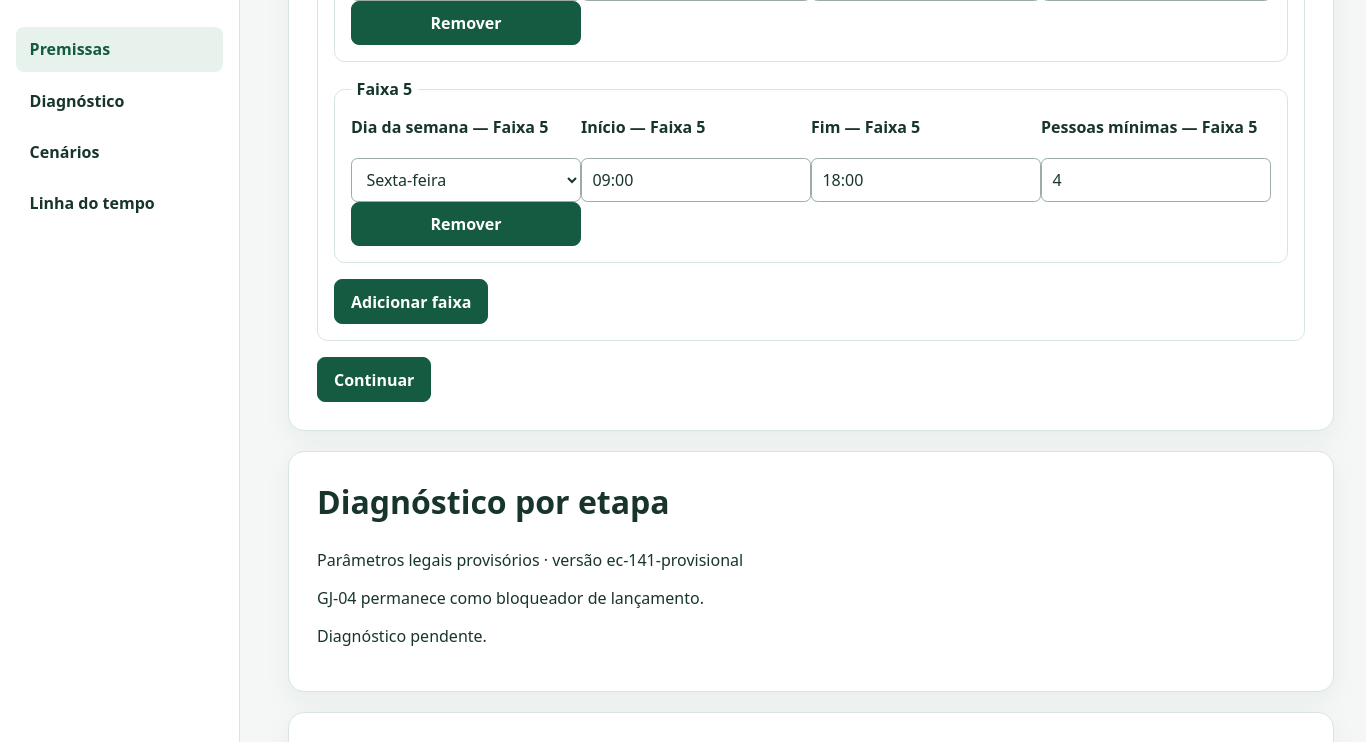
Test: diagnostic dashboard › shows all three diagnostic stages after valid form submission
This screenshot has width=1366, height=742.
(page scrolled)
Click the button "Continuar" at (374, 380), box [317, 357, 431, 402]
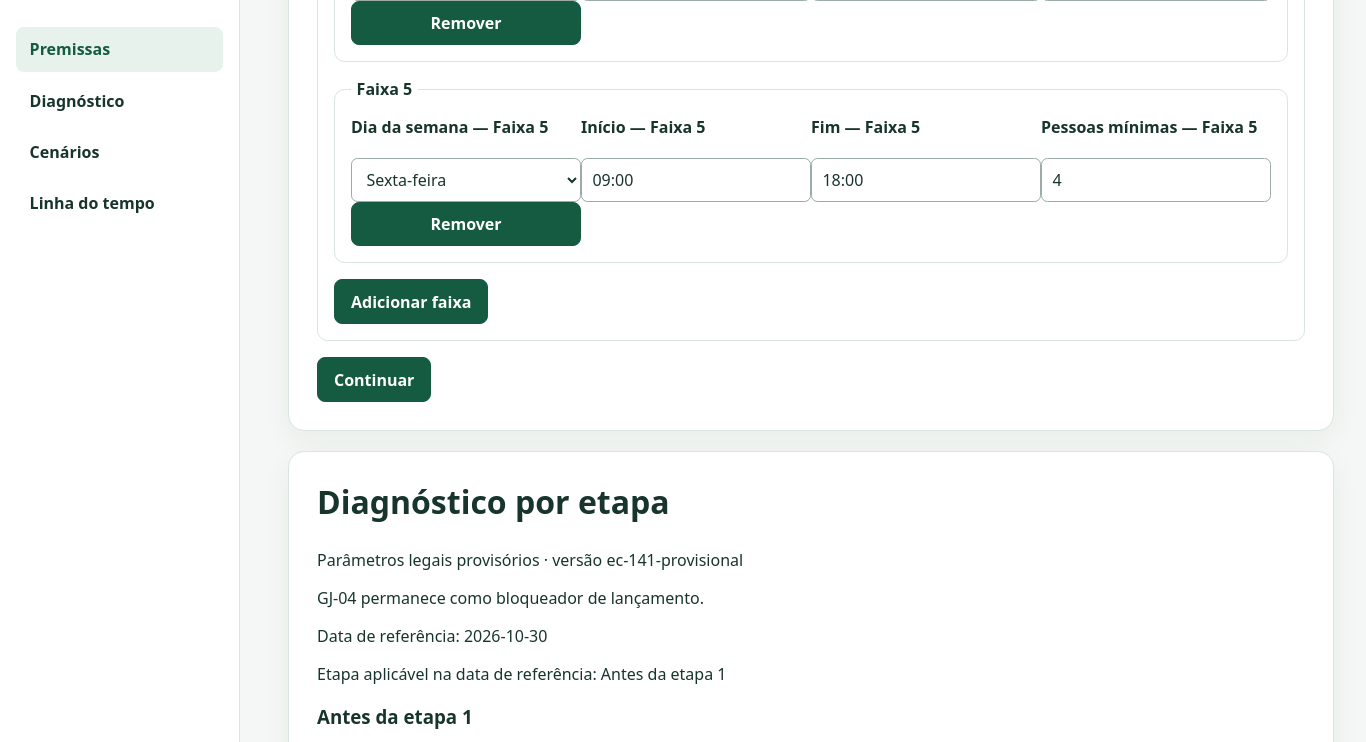
Expected: the heading "Antes da etapa 1" is shown, [317, 704, 473, 729]
Expected: the text "Diagnóstico pendente." is gone
